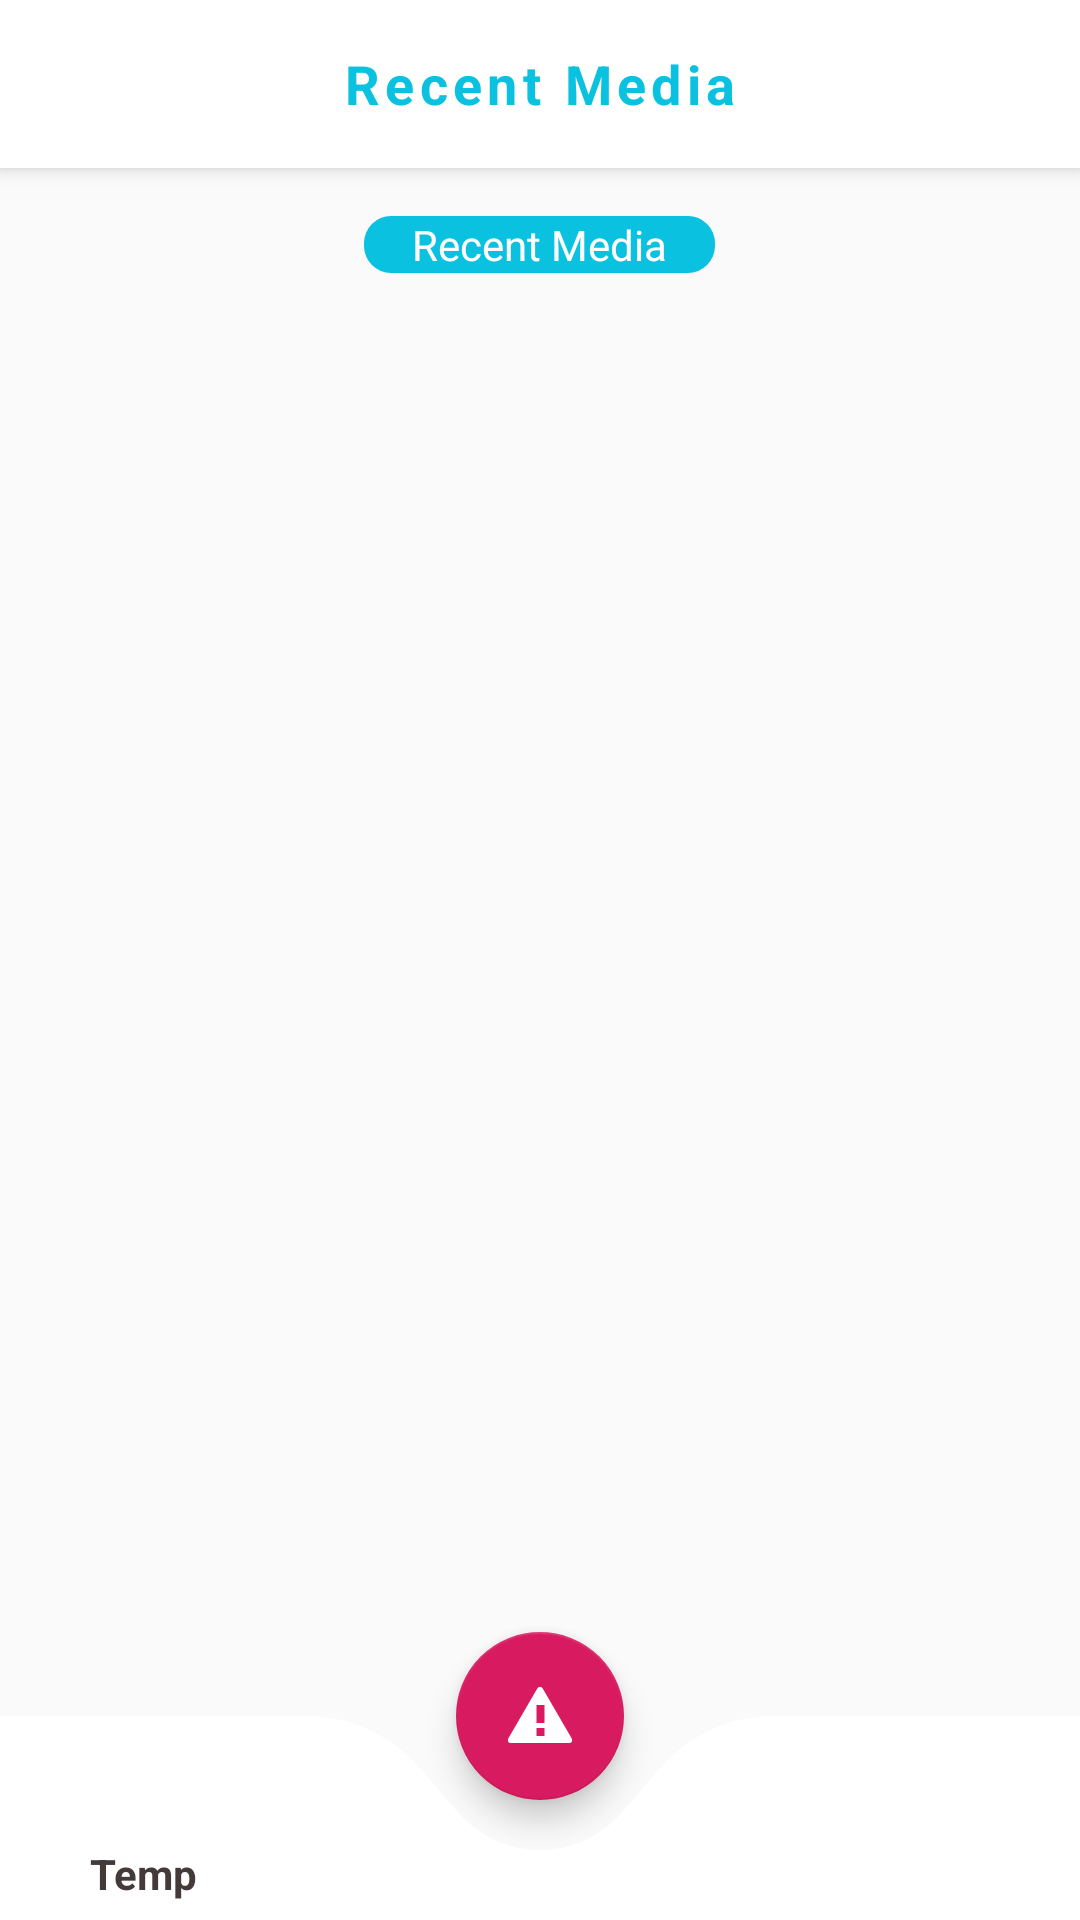

Named icons in this screenshot (1080 x 1920) and their bounding boxes, BBox(x1, y1, x2, y2):
error: BBox(455, 1632, 625, 1818)
